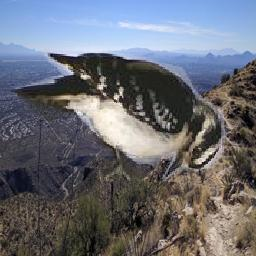Woodpecker: (10, 41, 235, 181)
